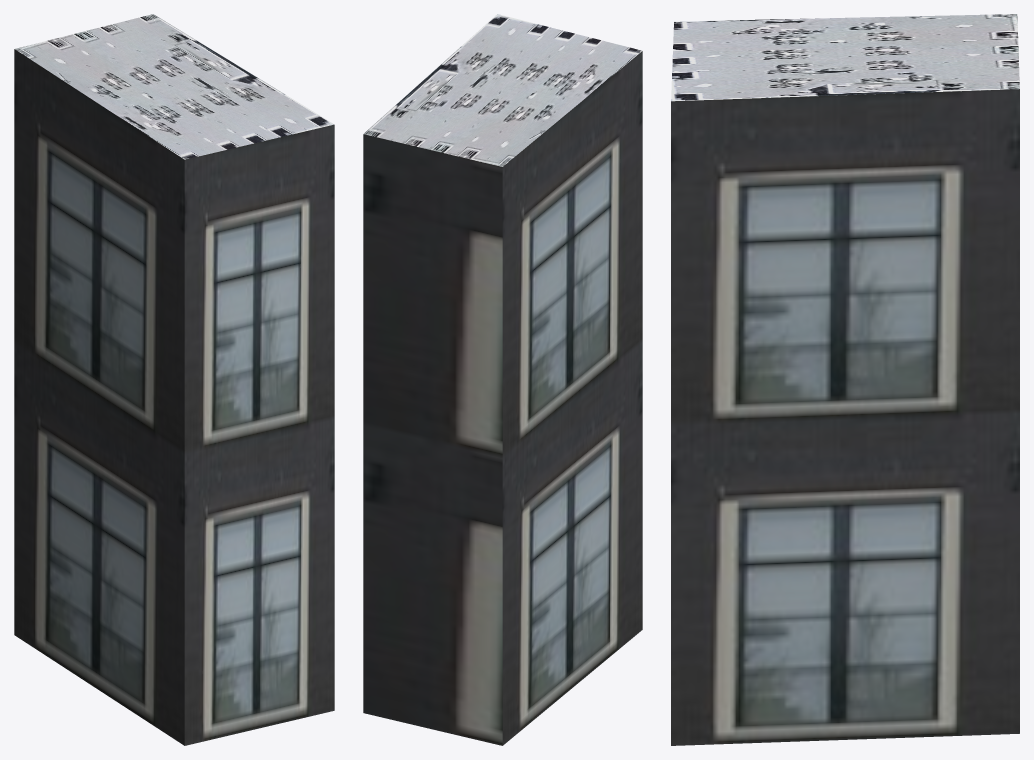
Rendered from ResTex__2585.fbx.
The picture shows the model from 3 angles, left to right: view 1: azimuth 30°, elevation 25°; view 2: azimuth 150°, elevation 25°; view 3: azimuth 270°, elevation 25°; orthographic projection. The views are drawn at different scales.
Parts seen in each view (by area): view 1: CityEngineMaterial_22_m, CityEngineMaterial_4_m; view 2: CityEngineMaterial_22_m, CityEngineMaterial_4_m; view 3: CityEngineMaterial_22_m, CityEngineMaterial_4_m.
Part boxes in pixels (<box>): CityEngineMaterial_22_m: <box>14,49,334,745</box>; CityEngineMaterial_4_m: <box>15,14,333,159</box>; CityEngineMaterial_22_m: <box>363,51,642,745</box>; CityEngineMaterial_4_m: <box>363,14,642,166</box>; CityEngineMaterial_22_m: <box>671,89,1019,745</box>; CityEngineMaterial_4_m: <box>671,14,1019,101</box>.
Size of the model in its own units: 1.74 by 6 by 2.94.
2 materials, 2 textured.
